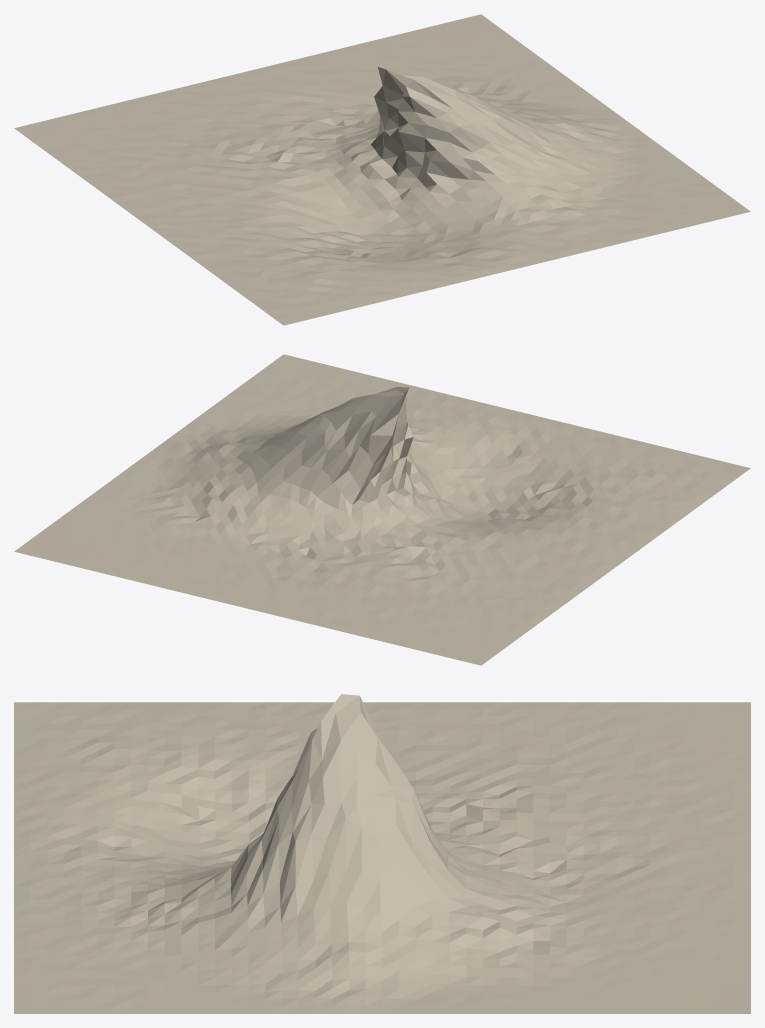
File: Ground_m_07.fbx
3 views of the same model, one above another, from view 1: azimuth 30°, elevation 25°; view 2: azimuth 150°, elevation 25°; view 3: azimuth 270°, elevation 25° (orthographic). The views are drawn at different scales.
Parts seen in each view (by area): view 1: Ground_m_07; view 2: Ground_m_07; view 3: Ground_m_07.
Part boxes in pixels (x1,y1,x2,y2): Ground_m_07: (14,14,750,325); Ground_m_07: (14,354,750,665); Ground_m_07: (14,694,750,1013).
Size of the model in its own units: 10000 by 2742 by 10000.
